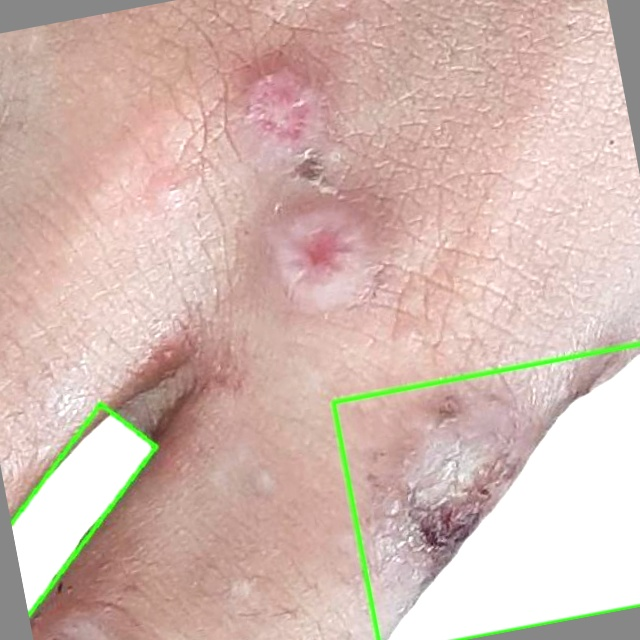Scabies: (333, 344, 639, 639), (15, 404, 161, 625)
